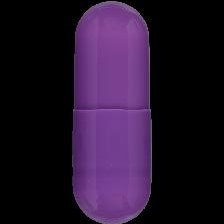10544-972: (0, 0, 224, 224)
